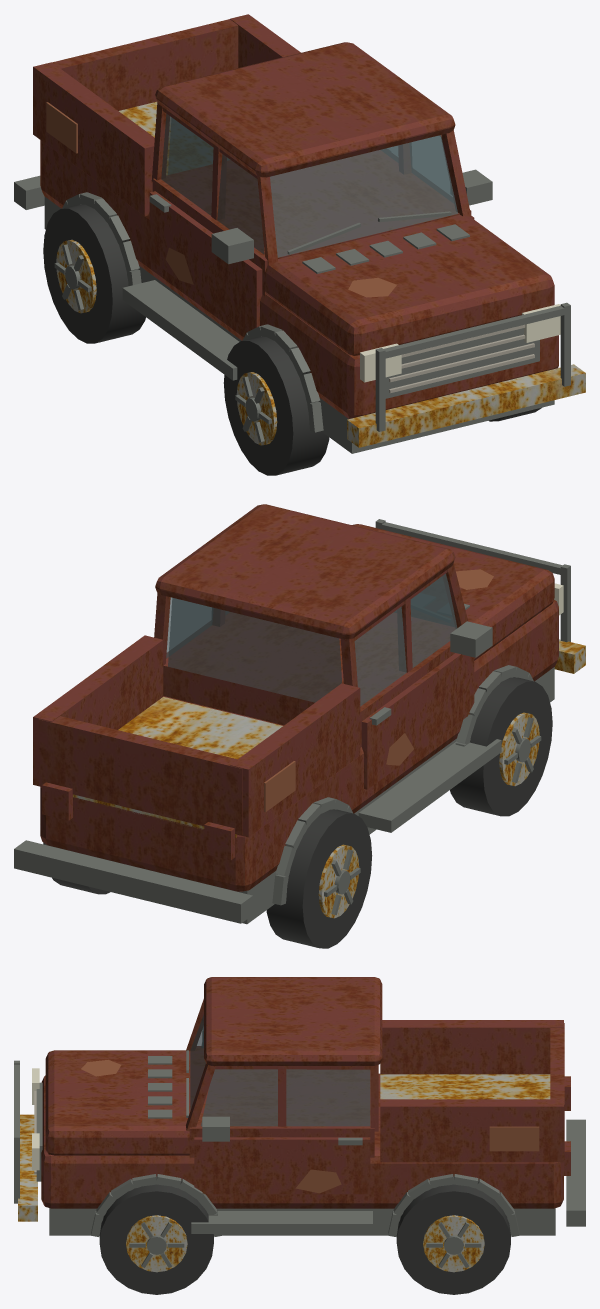
The model's file is pickup_red.glb.
3 views of the same model, one above another, from view 1: azimuth 30°, elevation 25°; view 2: azimuth 150°, elevation 25°; view 3: azimuth 270°, elevation 25° (orthographic). The views are drawn at different scales.
Visible parts, largest first — view 1: Cab_roof_separate.001, Hood_separate.001, Cab_lower.001, Windshield_glass_separate.001, Body_lower_separate.001, Pickup_bed_side_-1.001, Tailgate_separate.001, Tyre_-1_-1.3_separate.001, Tyre_-1_1.4_separate.001, Front_bumper.001, Side_door_-1_separate.001, Side_window_-1_separate.001 (+26 smaller); view 2: Cab_roof_separate.001, Cab_lower.001, Body_lower_separate.001, Tailgate_separate.001, Rear_window_glass_separate.001, Pickup_bed_side_-1.001, Tyre_-1_1.4_separate.001, Rear_bumper.001, Side_door_-1_separate.001, Tyre_-1_-1.3_separate.001, Pickup_bed_side_1.001, Side_window_-1_separate.001 (+20 smaller); view 3: Cab_roof_separate.001, Body_lower_separate.001, Hood_separate.001, Cab_lower.001, Pickup_bed_side_1.001, Pickup_bed_side_-1.001, Side_door_1_separate.001, Side_window_1_separate.001, Tyre_1_1.4_separate.001, Tyre_1_-1.3_separate.001, Pickup_bed_floor.001, Running_board_1.001 (+18 smaller).
Part boxes in pixels (<box>): Cab_roof_separate.001: <box>155,42,455,177</box>; Hood_separate.001: <box>265,215,554,355</box>; Cab_lower.001: <box>152,150,471,295</box>; Windshield_glass_separate.001: <box>270,135,457,257</box>; Body_lower_separate.001: <box>40,140,558,418</box>; Pickup_bed_side_-1.001: <box>33,62,154,216</box>; Tailgate_separate.001: <box>52,19,238,110</box>; Tyre_-1_-1.3_separate.001: <box>223,336,329,475</box>; Tyre_-1_1.4_separate.001: <box>43,204,145,343</box>; Front_bumper.001: <box>347,364,585,447</box>; Side_door_-1_separate.001: <box>149,191,262,331</box>; Side_window_-1_separate.001: <box>161,114,264,254</box>; Cab_roof_separate.001: <box>155,504,455,639</box>; Cab_lower.001: <box>163,612,455,747</box>; Body_lower_separate.001: <box>40,599,558,891</box>; Tailgate_separate.001: <box>38,716,242,835</box>; Rear_window_glass_separate.001: <box>168,598,341,702</box>; Pickup_bed_side_-1.001: <box>230,683,360,837</box>; Tyre_-1_1.4_separate.001: <box>266,809,372,948</box>; Rear_bumper.001: <box>14,840,252,923</box>; Side_door_-1_separate.001: <box>361,653,474,789</box>; Tyre_-1_-1.3_separate.001: <box>450,677,552,816</box>; Pickup_bed_side_1.001: <box>33,635,163,786</box>; Side_window_-1_separate.001: <box>354,574,457,706</box>; Cab_roof_separate.001: <box>204,977,382,1065</box>; Body_lower_separate.001: <box>41,1073,563,1208</box>; Hood_separate.001: <box>45,1050,191,1155</box>; Cab_lower.001: <box>189,1046,374,1157</box>; Pickup_bed_side_1.001: <box>380,1099,563,1162</box>; Pickup_bed_side_-1.001: <box>380,1020,563,1074</box>; Side_door_1_separate.001: <box>194,1137,370,1194</box>; Side_window_1_separate.001: <box>201,1069,370,1126</box>; Tyre_1_1.4_separate.001: <box>396,1184,510,1294</box>; Tyre_1_-1.3_separate.001: <box>99,1184,213,1294</box>; Pickup_bed_floor.001: <box>380,1074,550,1099</box>; Running_board_1.001: <box>191,1211,372,1233</box>.
Size of the model in its own units: 2.36 by 2.3 by 5.2.
Materials: 8 (2 with a texture image).
